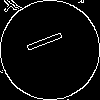I: (25, 25, 73, 54)
